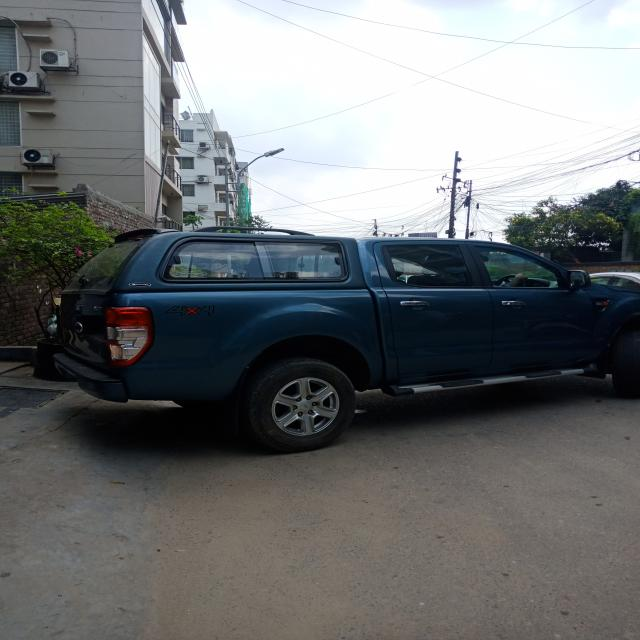pickup-van: (31, 190, 640, 455)
